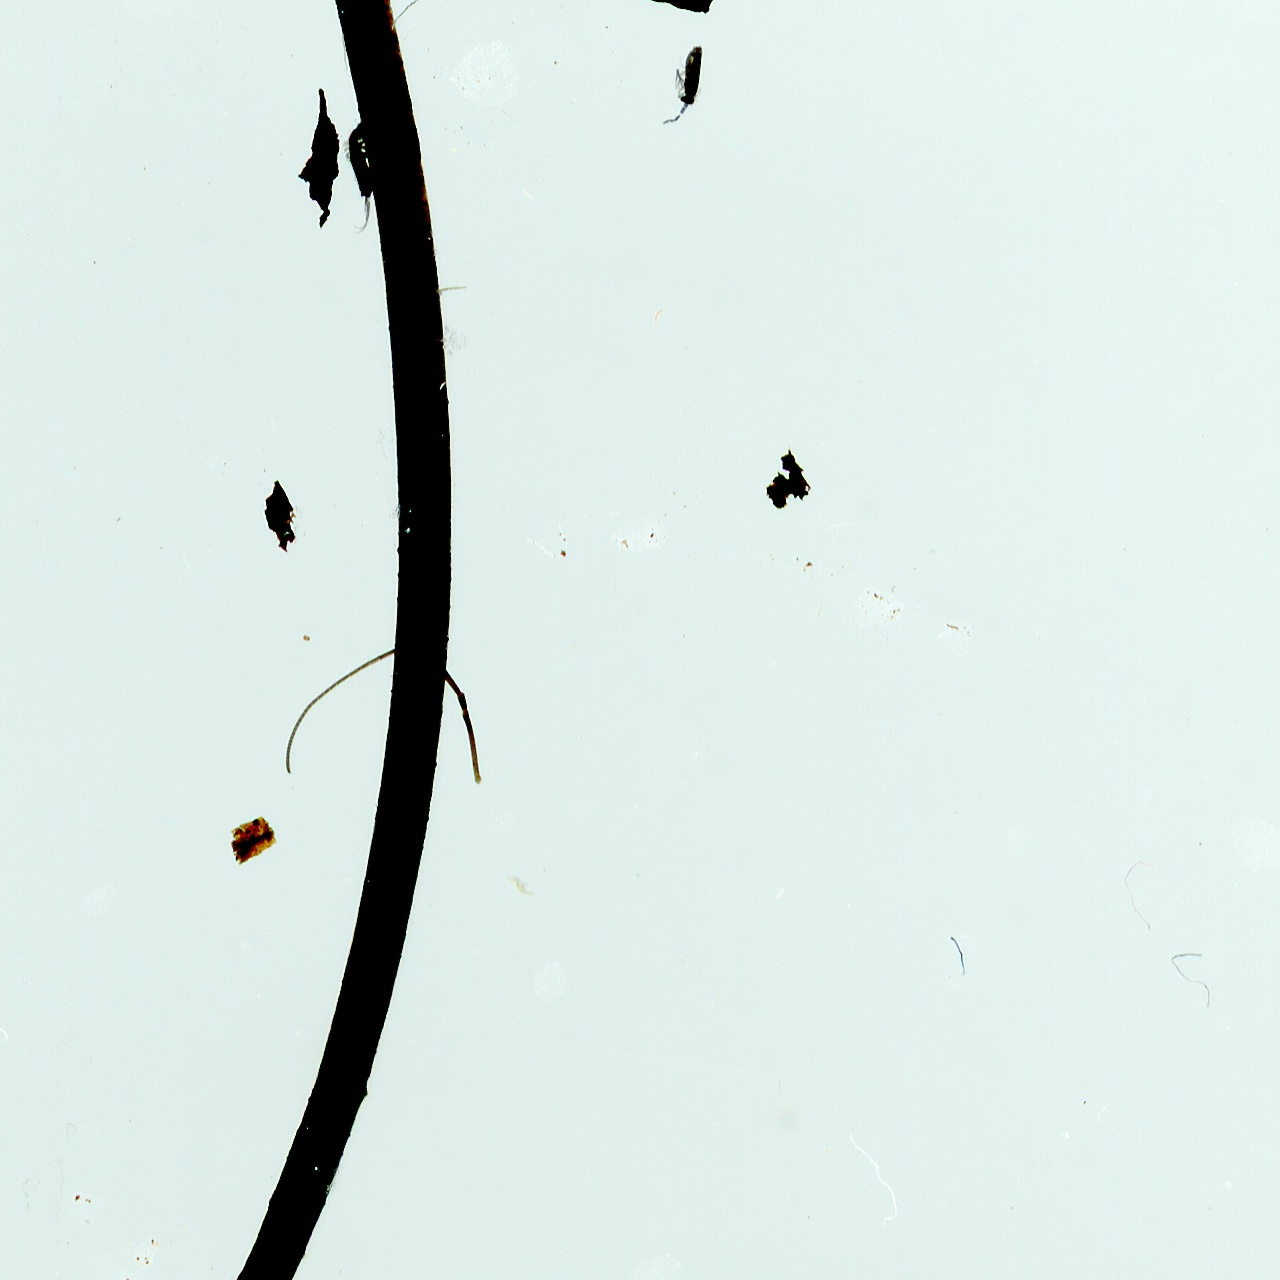arthropod: (653, 23, 714, 143), (341, 104, 387, 244)
